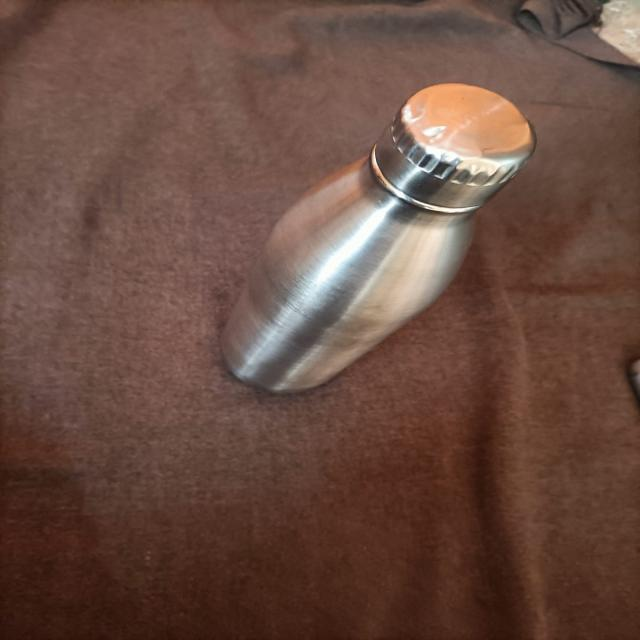bottle: (182, 43, 563, 431)
